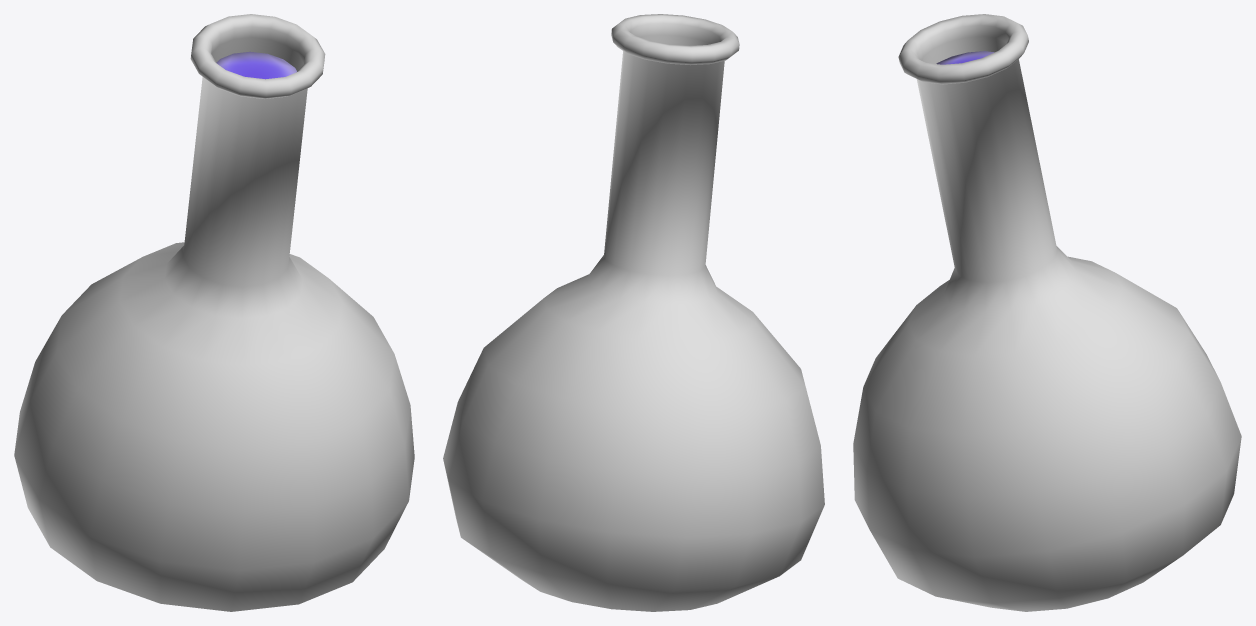
Rendered from Potion_Bottle.fbx.
3 views of the same model, side by side, from view 1: azimuth 30°, elevation 25°; view 2: azimuth 150°, elevation 25°; view 3: azimuth 270°, elevation 25° (orthographic). The views are drawn at different scales.
Parts seen in each view (by area): view 1: potion; view 2: potion; view 3: potion.
Part boxes in pixels (box(x1,y1,x2,y2)): potion: box(14, 14, 414, 611); potion: box(443, 14, 824, 611); potion: box(853, 14, 1241, 611).
Size of the model in its own units: 11.59 by 11.74 by 18.08.
